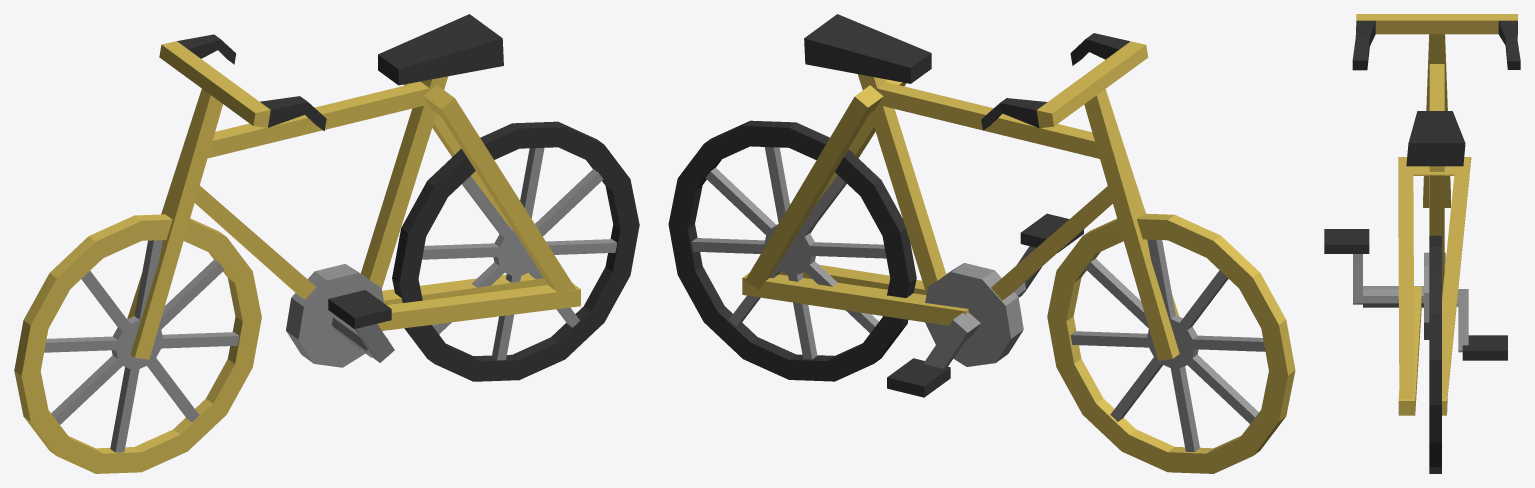
The model's file is B02_velo_1.fbx.
3 views of the same model, side by side, from view 1: azimuth 30°, elevation 25°; view 2: azimuth 150°, elevation 25°; view 3: azimuth 270°, elevation 25° (orthographic). The views are drawn at different scales.
Visible parts, largest first — view 1: B02_velo_1; view 2: B02_velo_1; view 3: B02_velo_1.
Part boxes in pixels (box(x1,y1,x2,y2)): B02_velo_1: box(14, 14, 639, 473); B02_velo_1: box(668, 14, 1295, 473); B02_velo_1: box(1324, 14, 1520, 473).
Bounding box in the file's own units: 306 × 176 × 97.92.
